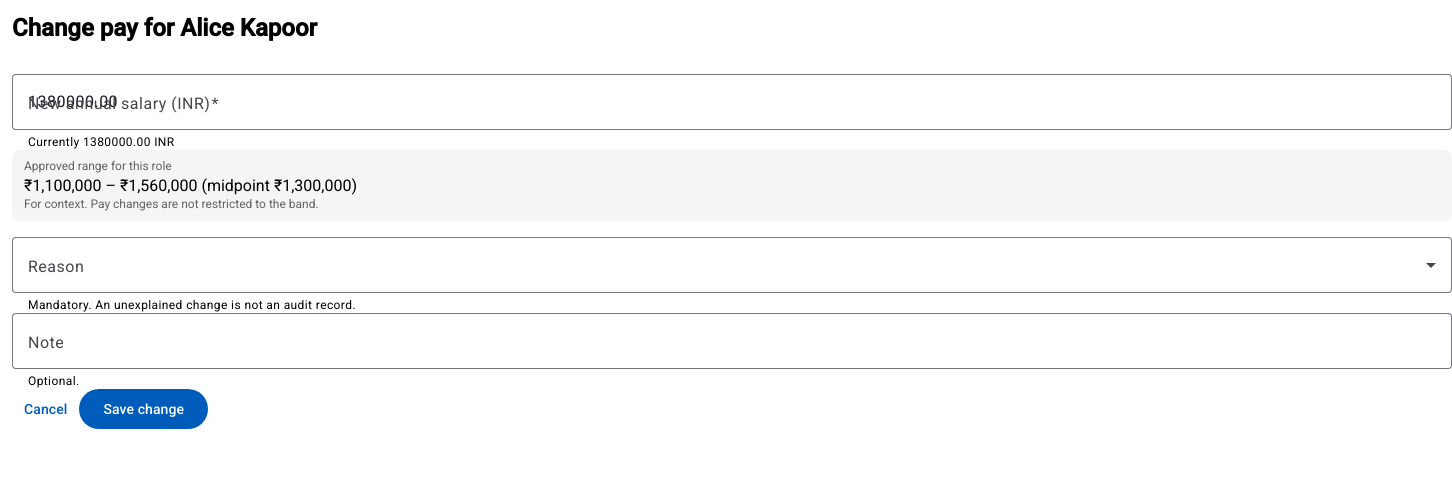
Scenario: ChangeSalaryDialogComponent › drops a stale refusal as soon as the amount is corrected
Replace the text in the field named "amount" with "1500000". click: (732, 102)
box: 28,90 -> 1436,114
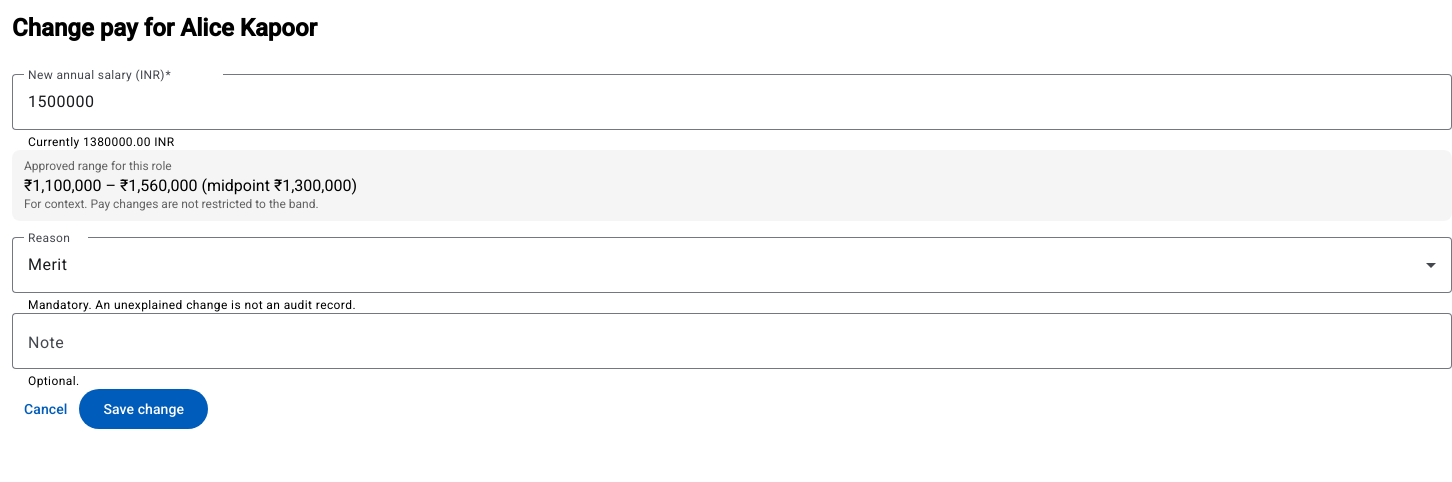
Click the button named "save". click: click(144, 409)
box: 79,389 -> 208,429
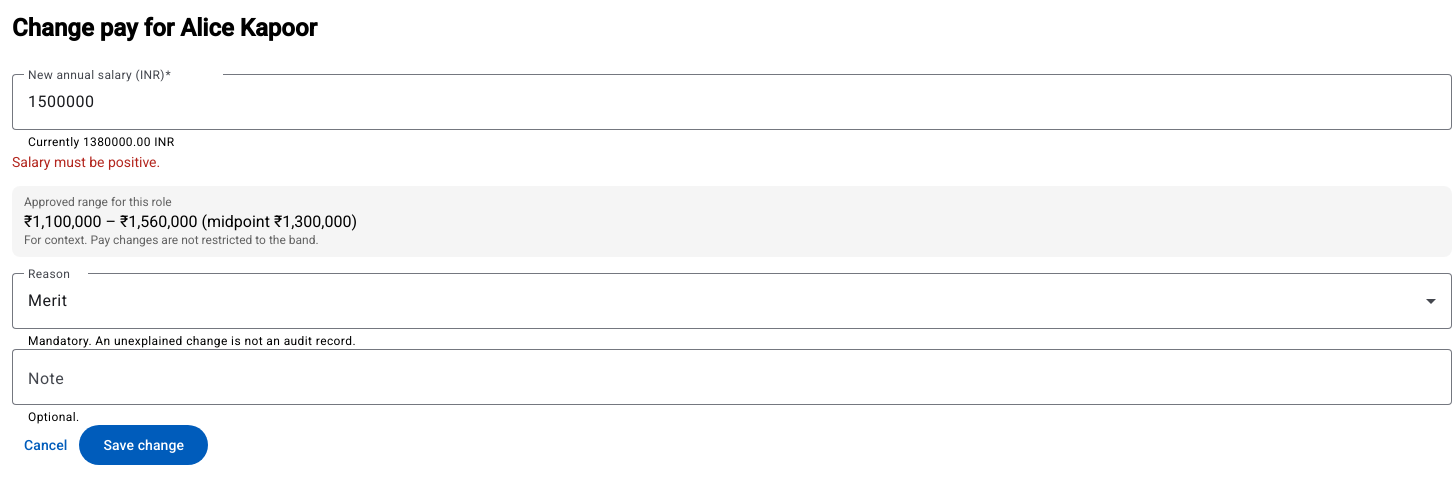
Expected: the message "Salary must be positive." is shown, 12,154 -> 160,170
Replace the text in the field named "amount" with "1600000". click: (732, 102)
box: 28,90 -> 1436,114
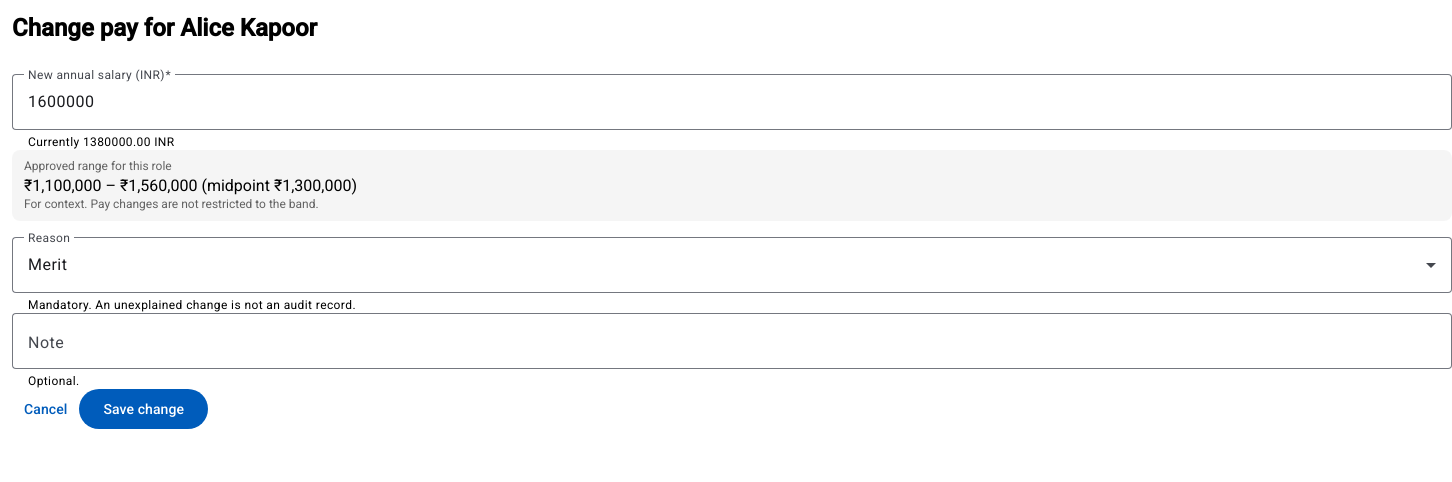
Expected: the message with id "amount-problem" is gone
